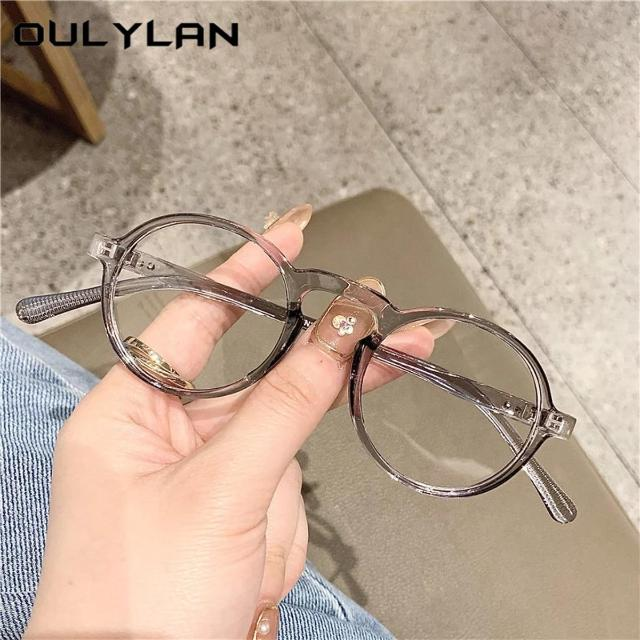glasses: (89, 216, 576, 494)
